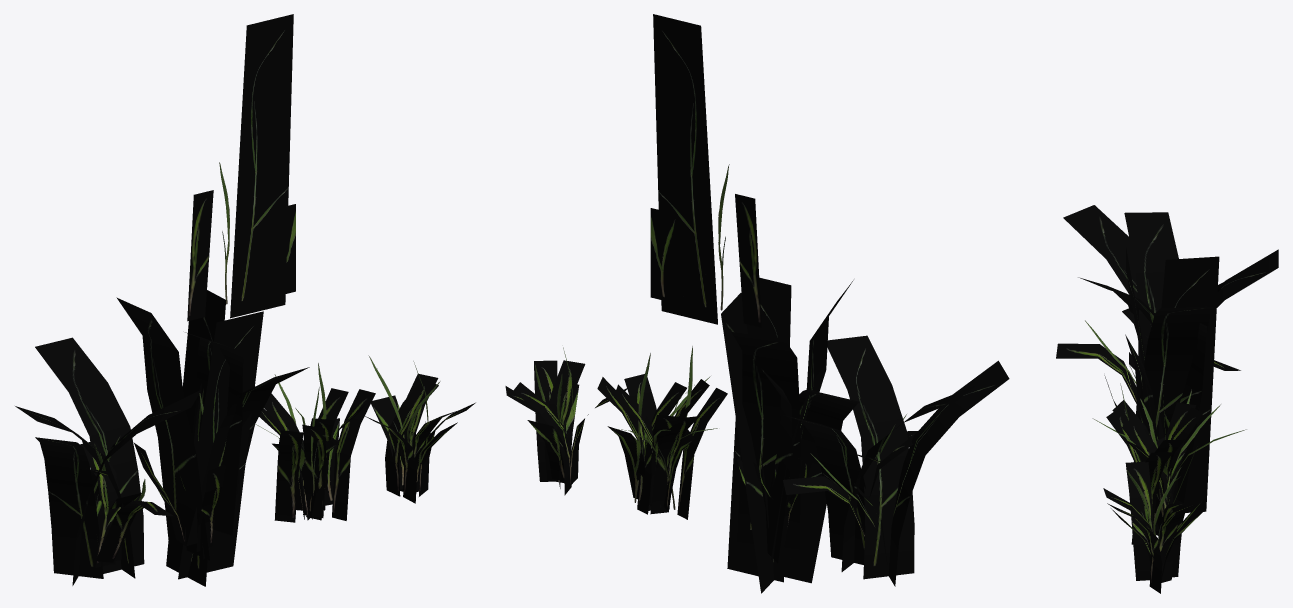
File: grass.fbx
3 renders of one model, left to right at view 1: azimuth 30°, elevation 25°; view 2: azimuth 150°, elevation 25°; view 3: azimuth 270°, elevation 25°, orthographic. The views are drawn at different scales.
Parts seen in each view (by area): view 1: trasparent grass2.003, trasparent grass4.005, trasparent grass2, trasparent grass4.008, trasparent grass4.002, trasparent grass4, trasparent grass1; view 2: trasparent grass2.003, trasparent grass4.005, trasparent grass2, trasparent grass4.008, trasparent grass4.002, trasparent grass4, trasparent grass1; view 3: trasparent grass2.003, trasparent grass4.005, trasparent grass4.002, trasparent grass4.008.
Boxes of the visible parts, box(x1,y1,x2,y2) form: trasparent grass2.003: box(116, 290, 309, 586); trasparent grass4.005: box(15, 337, 201, 585); trasparent grass2: box(230, 14, 293, 318); trasparent grass4.008: box(255, 363, 375, 522); trasparent grass4.002: box(365, 355, 475, 503); trasparent grass4: box(187, 190, 213, 321); trasparent grass1: box(285, 204, 295, 293); trasparent grass2.003: box(721, 277, 859, 593); trasparent grass4.005: box(783, 335, 1009, 586); trasparent grass2: box(653, 14, 717, 324); trasparent grass4.008: box(597, 346, 727, 519); trasparent grass4.002: box(505, 347, 627, 495); trasparent grass4: box(735, 194, 761, 327); trasparent grass1: box(650, 208, 676, 301); trasparent grass2.003: box(1104, 247, 1229, 512); trasparent grass4.005: box(1056, 205, 1278, 416); trasparent grass4.002: box(1103, 446, 1206, 593); trasparent grass4.008: box(1092, 383, 1246, 544).
Size of the model in its own units: 636 by 716 by 292.
4 materials, 4 textured.
